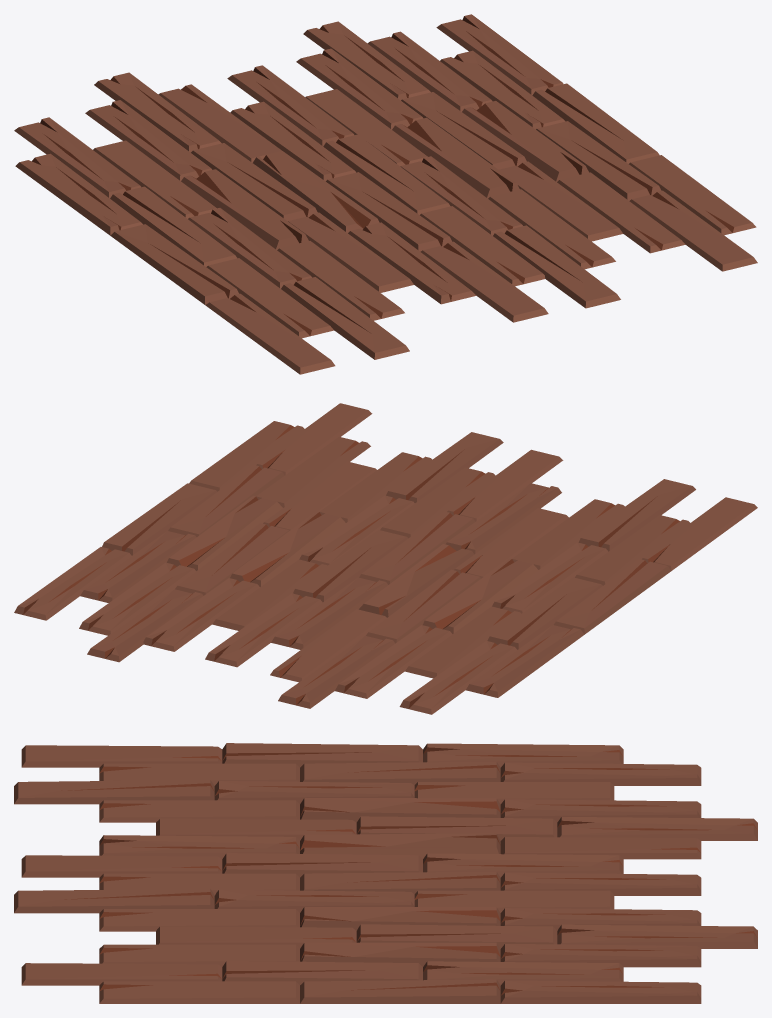
File: SM_Floor.fbx
3 views of the same model, one above another, from view 1: azimuth 30°, elevation 25°; view 2: azimuth 150°, elevation 25°; view 3: azimuth 270°, elevation 25° (orthographic). The views are drawn at different scales.
Parts seen in each view (by area): view 1: Floor_4_4; view 2: Floor_4_4; view 3: Floor_4_4.
Part boxes in pixels (x1,y1,x2,y2): Floor_4_4: (14, 14, 757, 374); Floor_4_4: (14, 403, 757, 714); Floor_4_4: (14, 743, 757, 1003).
Size of the model in its own units: 400 by 6.9 by 494.
